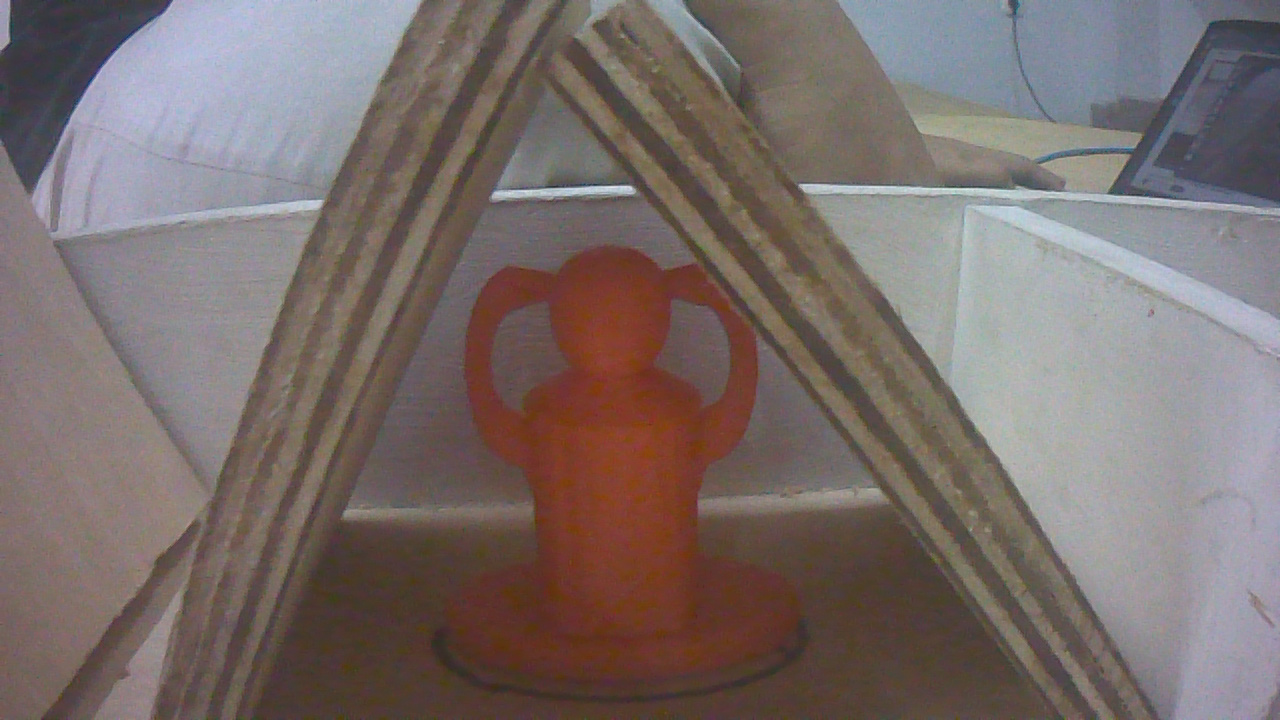real: (442, 247, 795, 700)
